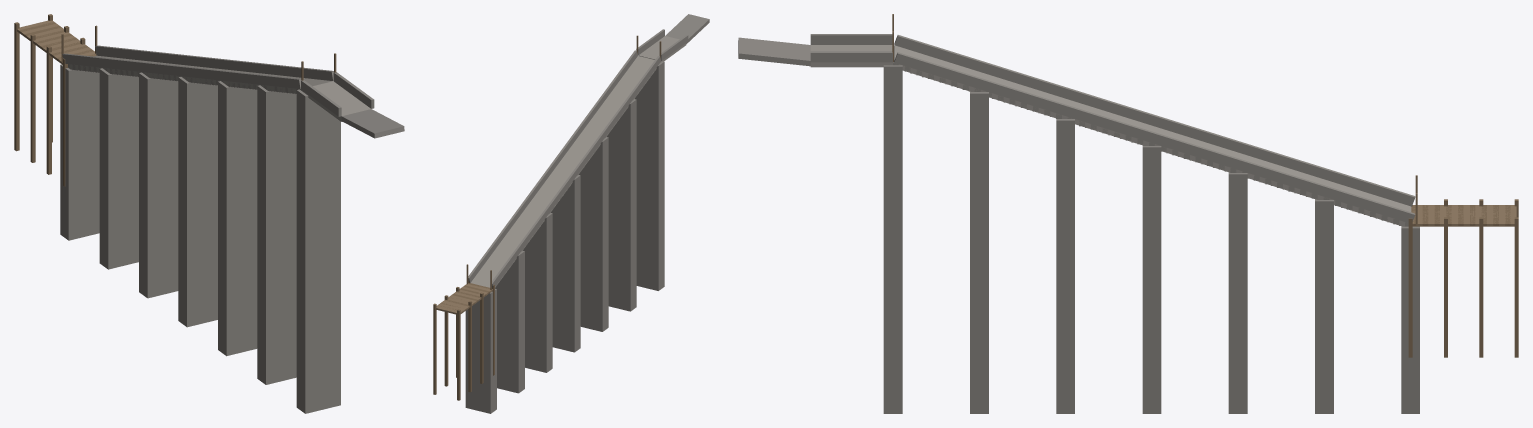
Rendered from ash_landing_vent_lod1.glb.
3 views of the same model, side by side, from view 1: azimuth 30°, elevation 25°; view 2: azimuth 150°, elevation 25°; view 3: azimuth 270°, elevation 25° (orthographic). The views are drawn at different scales.
Visible parts, largest first — view 1: geometry_0; view 2: geometry_0; view 3: geometry_0.
Boxes of the visible parts, x1,y1,x2,y2 form: geometry_0: (14,14,404,413); geometry_0: (433,14,709,413); geometry_0: (738,14,1518,413).
Size of the model in its own units: 3.95 by 35.73 by 66.27.
